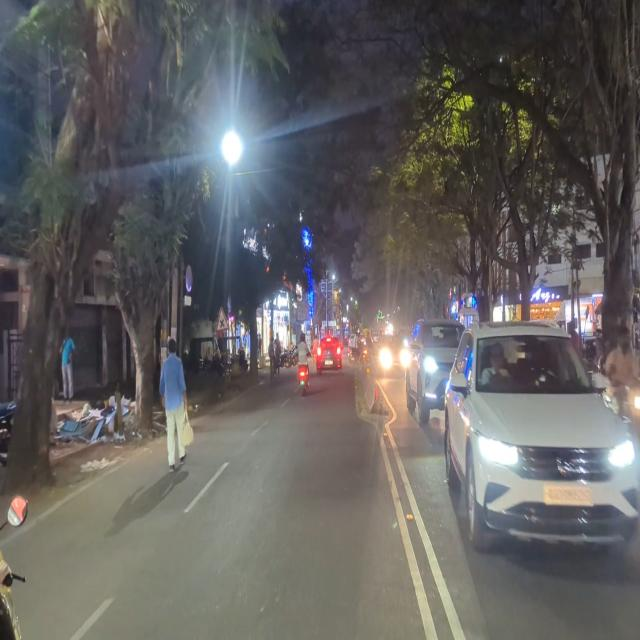bien_cam: (216, 306, 229, 334), (184, 262, 193, 295)
